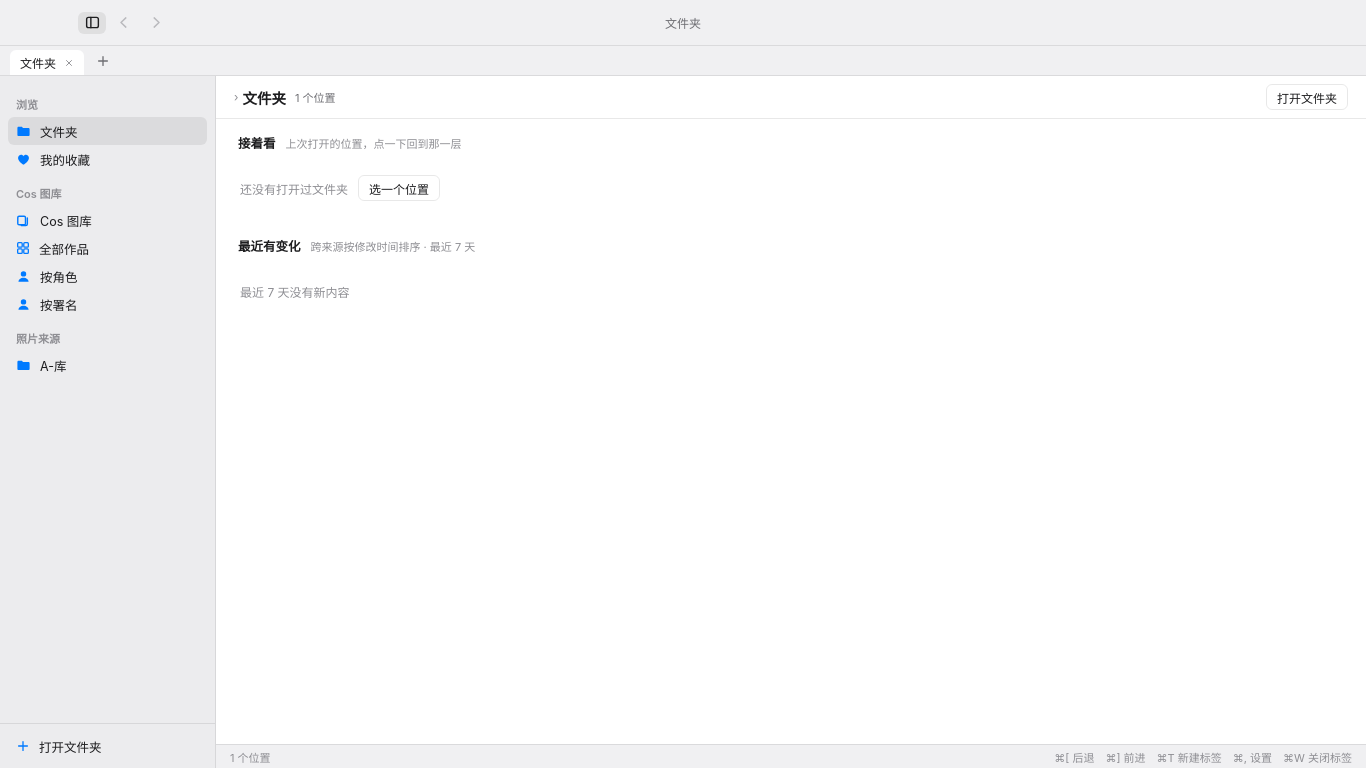
Scenario: 能力矩阵收尾 › R04 每个标签各自前进后退，互不影响
Expected: the text "A-库" is shown, [40,356,66,374]
Click the button "A-库".
click(99, 365)  # box [8,351,190,379]
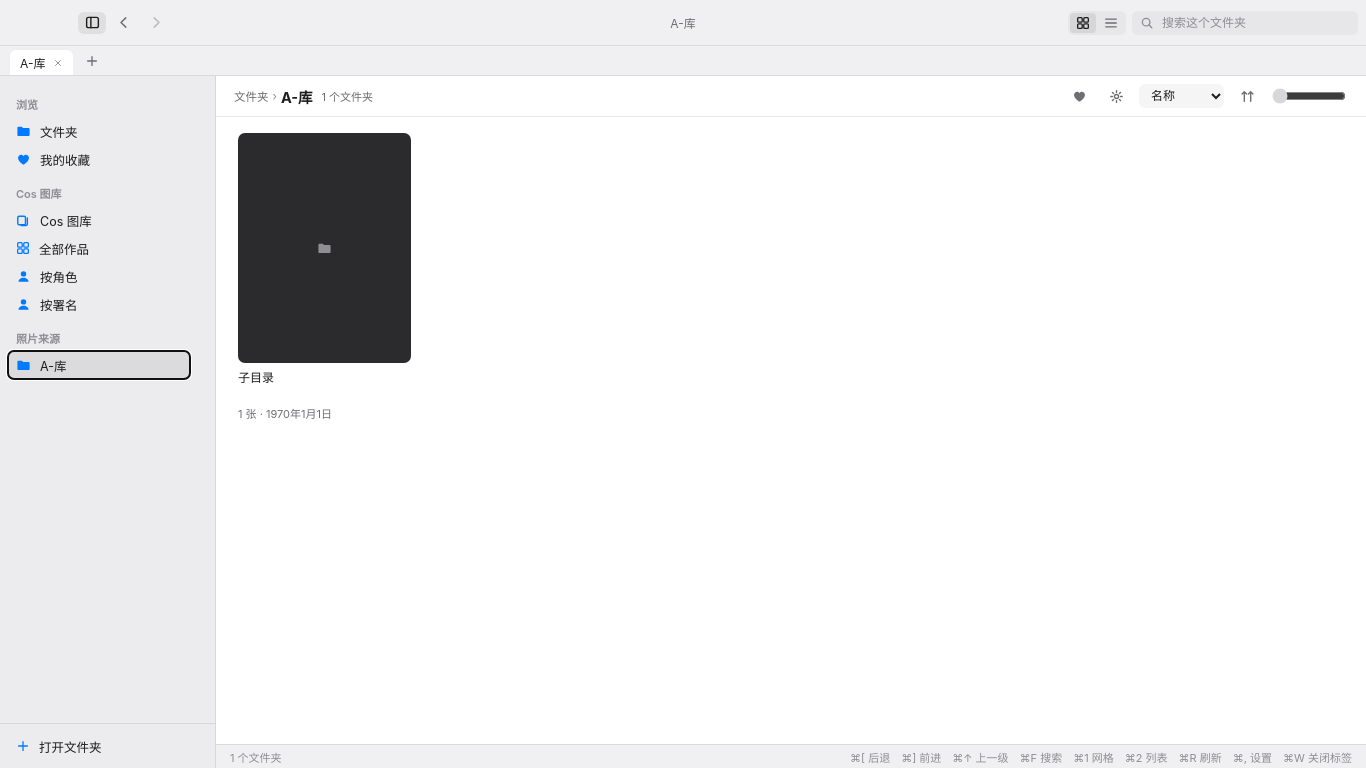
Click the button named "新建标签页".
click(90, 60)  # box [79,50,101,72]
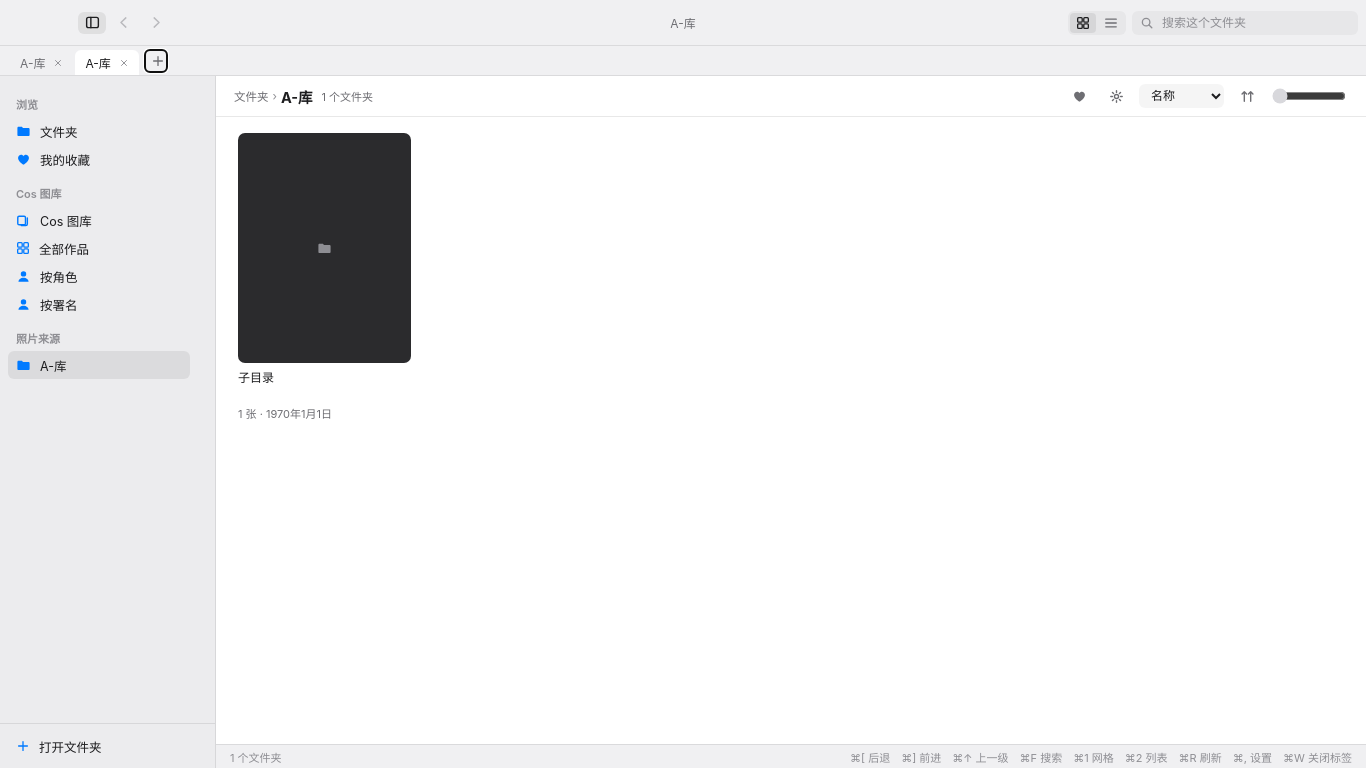
Expected: the number of tabs is 2, [20,56,63,71]; [75,50,139,75]
# 第二个标签进入子目录
Click the text "子目录".
click(256, 378)  # box [238,370,274,385]
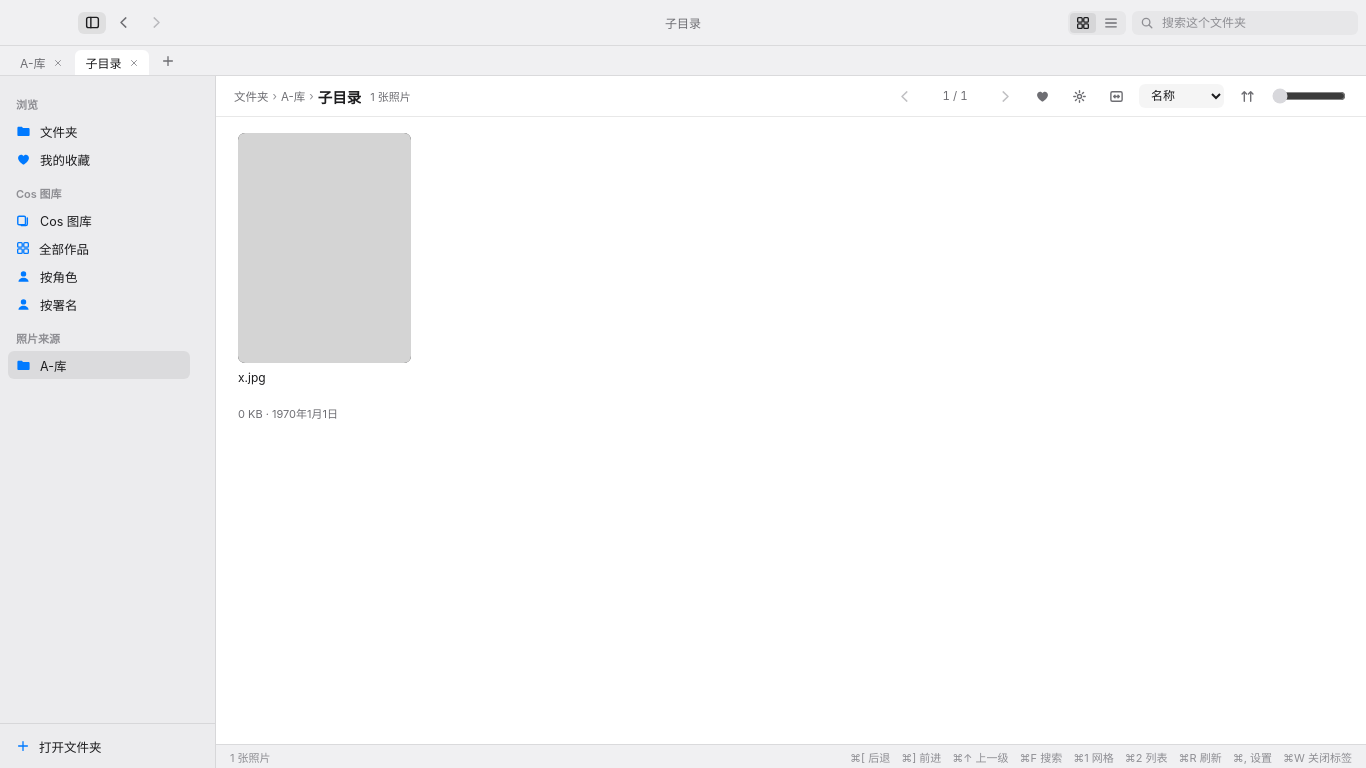
Expected: the text "子目录" in the row of "1 / 1" is shown, [318,88,361,106]
# 回到第一个标签后退，只影响它自己
Click the tab "A-库".
click(42, 64)  # box [20,56,63,71]
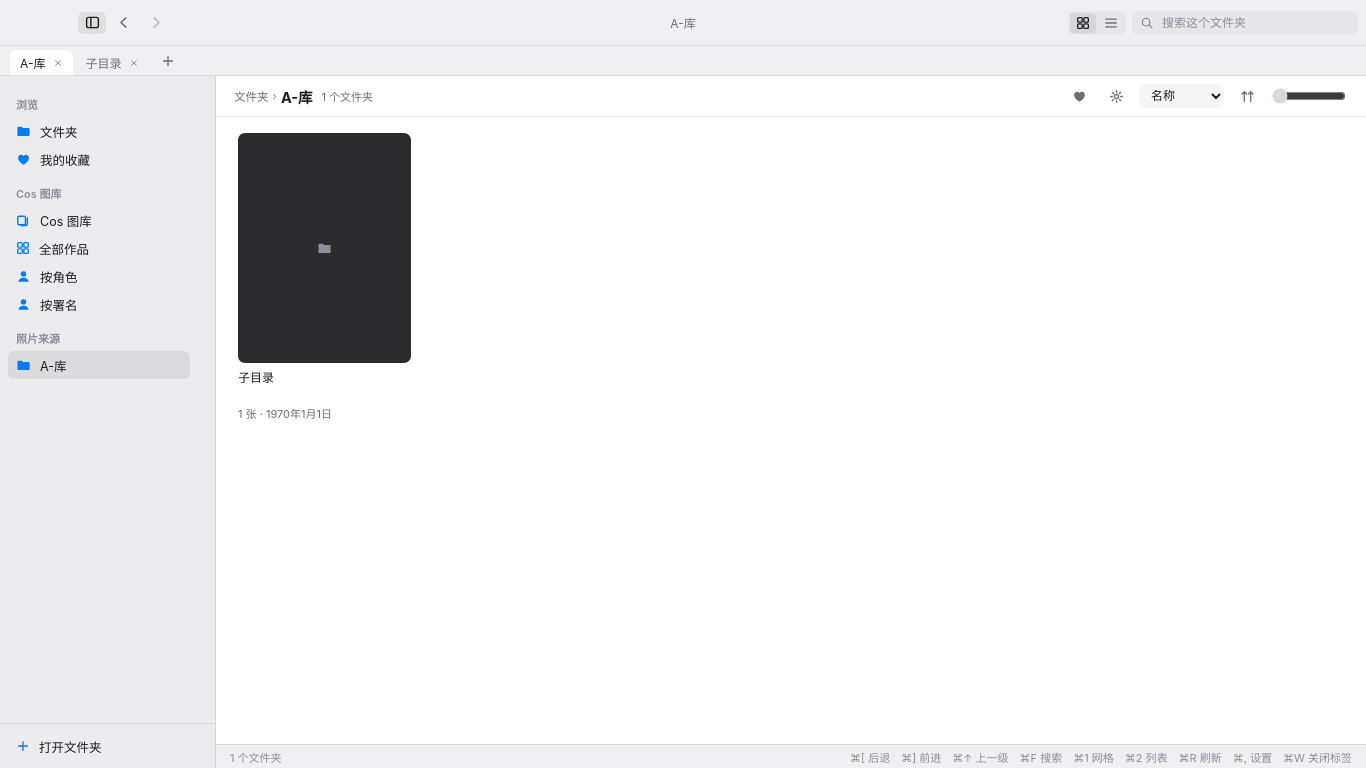
Press [
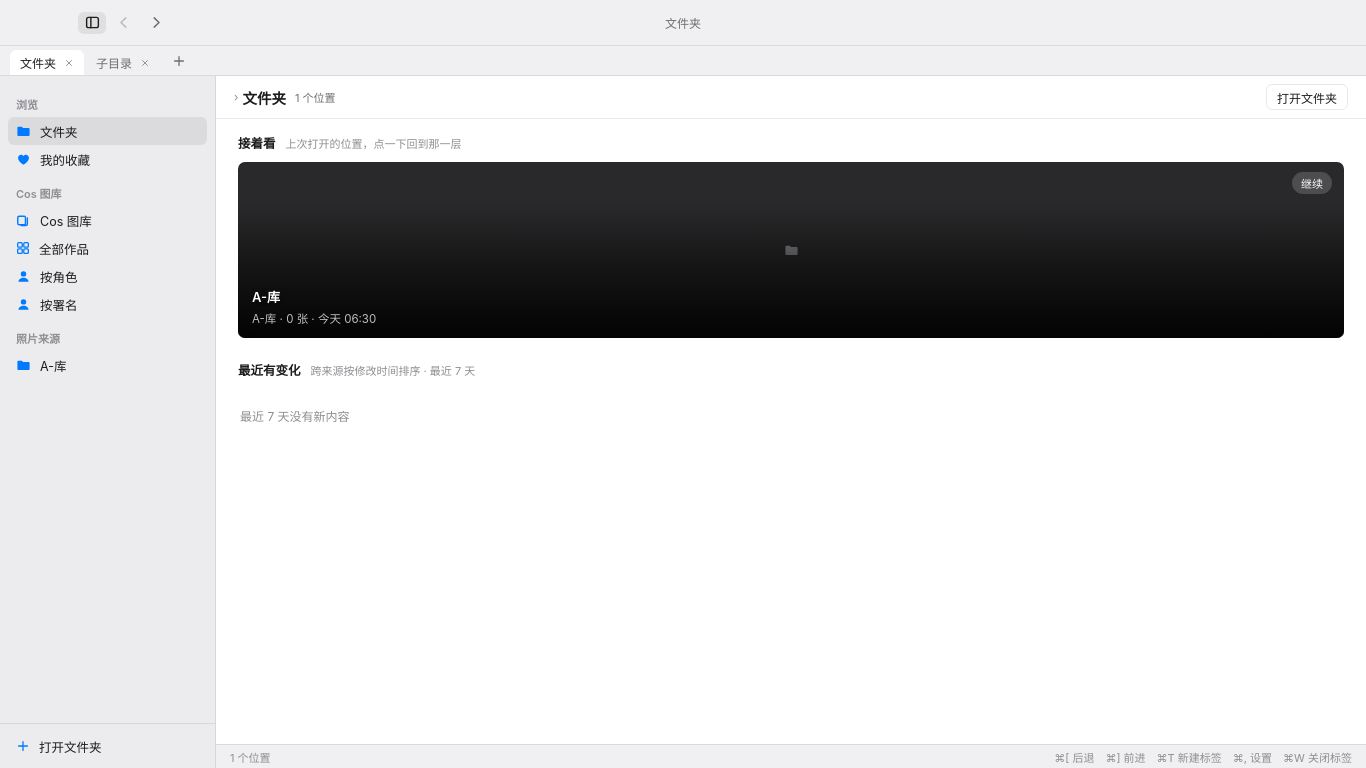
Expected: the 3rd text "文件夹" is shown, [242,86,286,108]
# 第二个标签仍在子目录
Click the tab "子目录".
click(123, 64)  # box [96,56,150,71]
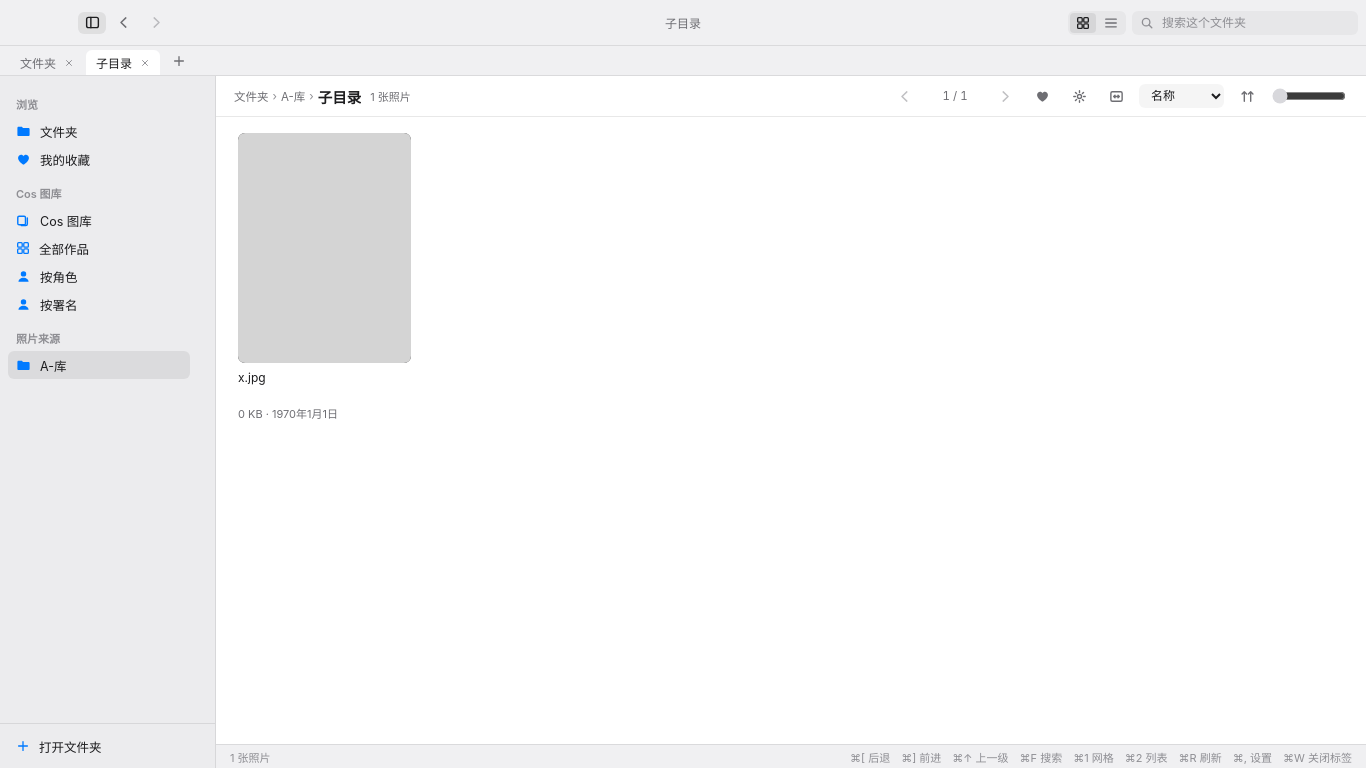
Expected: the text "子目录" in the row of "1 / 1" is shown, [318,88,361,106]
